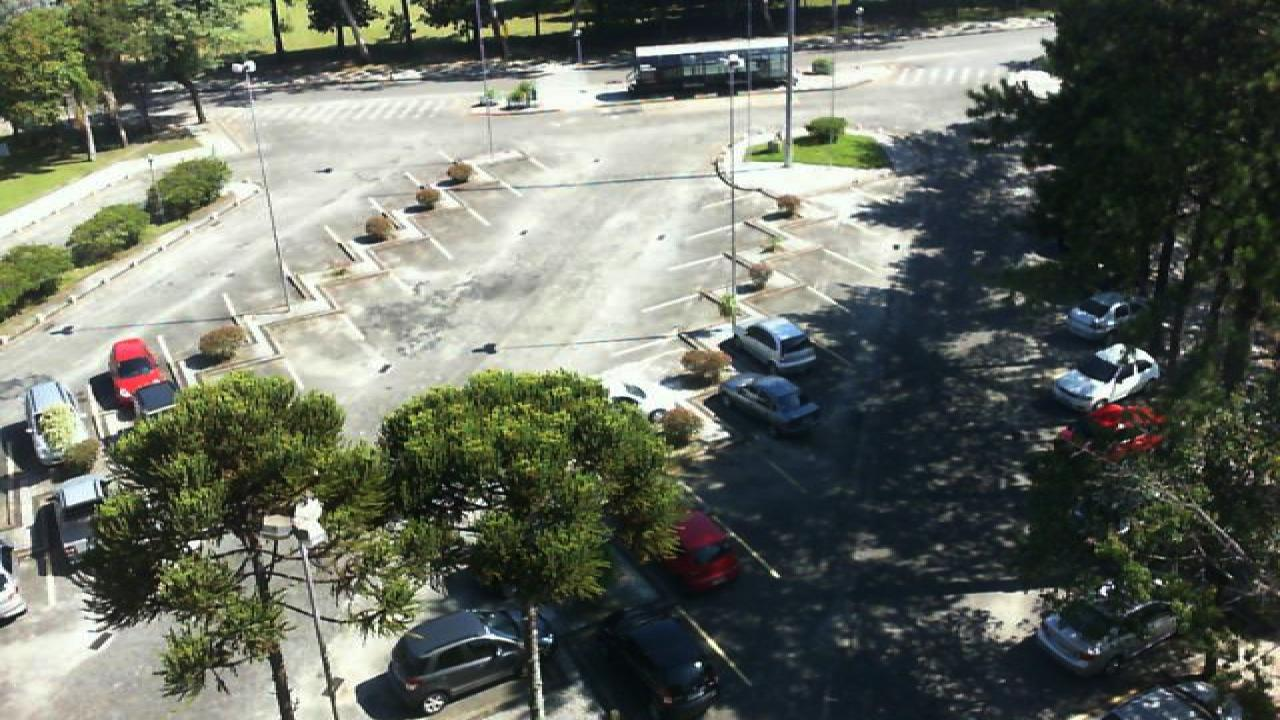Car: (388, 607, 554, 720), (580, 602, 722, 720), (1034, 580, 1182, 680), (1050, 342, 1162, 414), (652, 507, 744, 594), (1056, 398, 1172, 466), (718, 371, 822, 439), (596, 368, 702, 431), (106, 338, 182, 420), (720, 315, 820, 377), (22, 377, 88, 470), (34, 474, 108, 556), (1096, 679, 1244, 720), (1064, 290, 1144, 343)
